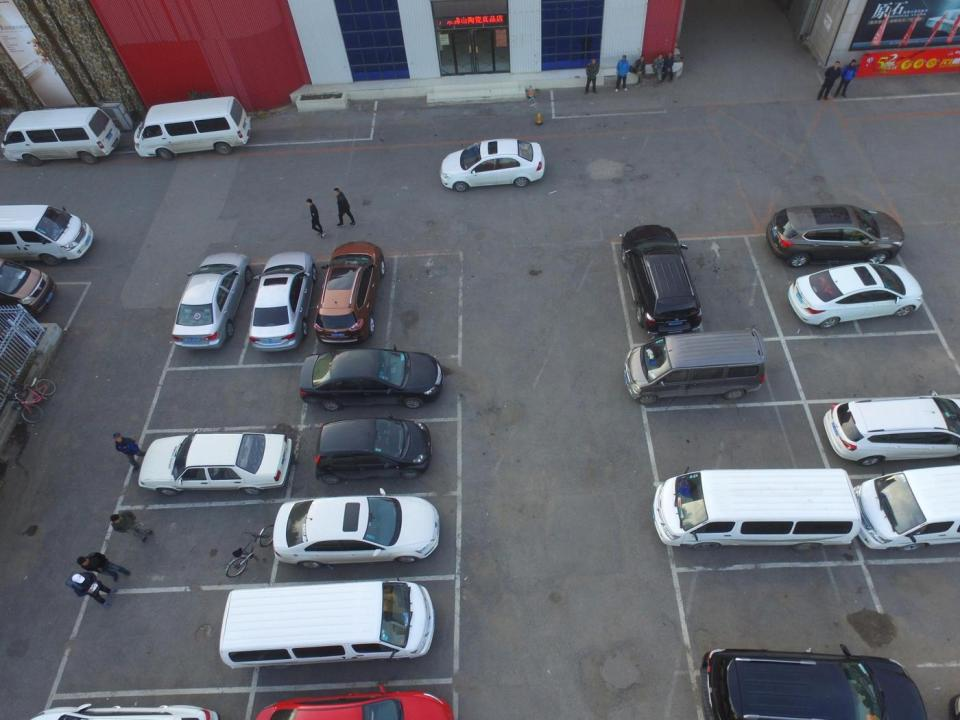car: (702, 646, 927, 720), (273, 499, 440, 564), (135, 431, 296, 496), (823, 395, 960, 463), (298, 349, 444, 411), (618, 223, 701, 332), (853, 463, 960, 546), (787, 262, 922, 326), (170, 252, 251, 352), (767, 204, 903, 262), (312, 418, 430, 482), (316, 240, 386, 344), (255, 683, 453, 718), (249, 250, 316, 350), (441, 138, 546, 190), (23, 703, 230, 720), (0, 261, 58, 316)
van: (218, 580, 435, 671), (652, 467, 859, 553), (624, 332, 765, 406), (132, 94, 252, 160), (0, 106, 119, 166), (0, 203, 95, 266)
